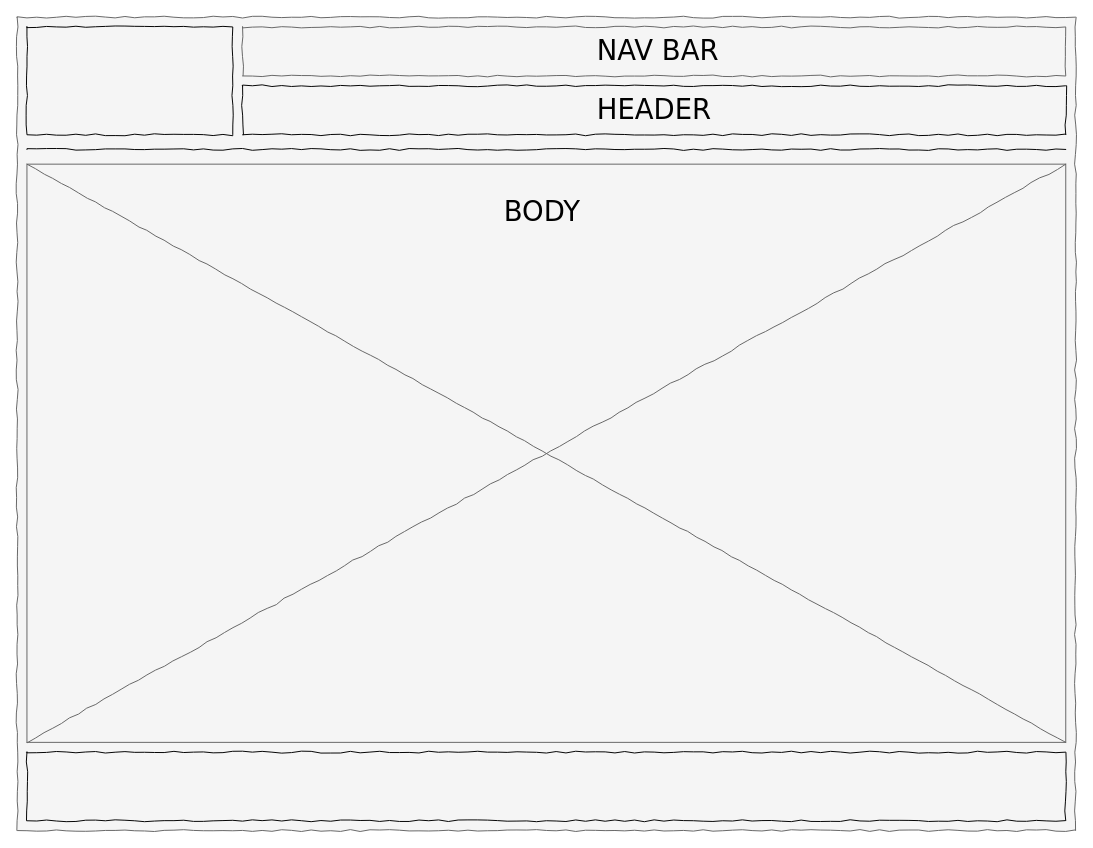
Some shapes in this 1093 by 848 pixel diagram are drawn without their labels. Here are the shapes that lost their labels. From the top down, the centre of each, then its label:
At point 129,80: "LOGO".
At point 546,786: "FOOTER".
